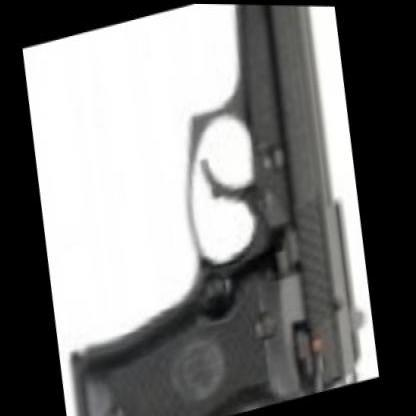pistol: (18, 0, 388, 415)
